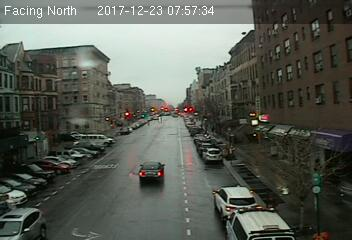car: (212, 183, 260, 219), (137, 161, 166, 183), (202, 147, 223, 163)
police: (223, 207, 297, 240)
